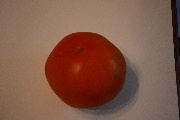tomato: (43, 30, 126, 111)
